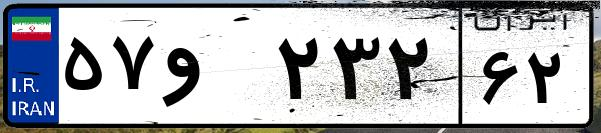2: (270, 28, 330, 110), (385, 28, 445, 110), (525, 38, 570, 115)
3: (330, 28, 385, 110)
5: (57, 26, 110, 100)
6: (475, 38, 525, 113)
7: (110, 28, 158, 98)
و: (158, 20, 270, 120)
